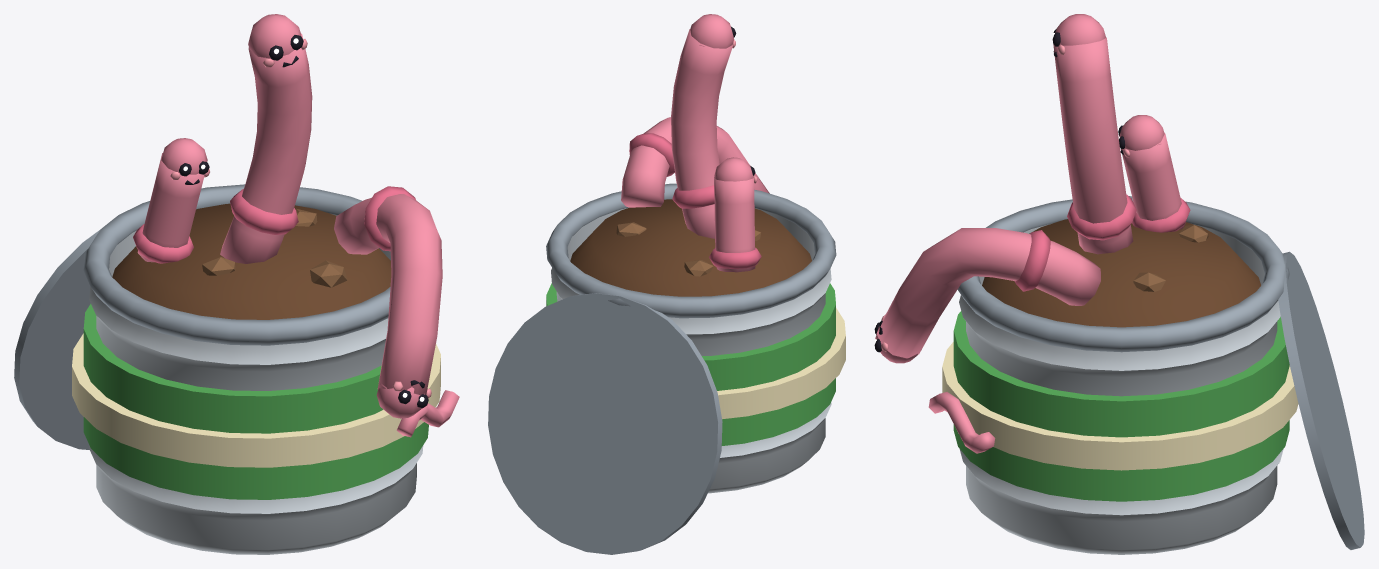
File: isca-minhoca.glb
The picture shows the model from 3 angles, left to right: view 1: azimuth 30°, elevation 25°; view 2: azimuth 150°, elevation 25°; view 3: azimuth 270°, elevation 25°; orthographic projection. The views are drawn at different scales.
Visible parts, largest first — view 1: isca-minhoca; view 2: isca-minhoca; view 3: isca-minhoca.
Boxes of the visible parts, <box> form: isca-minhoca: <box>14,14,459,554</box>; isca-minhoca: <box>488,14,845,554</box>; isca-minhoca: <box>874,14,1364,554</box>.
Bounding box in the file's own units: 0.1036 × 0.1652 × 0.1417.
